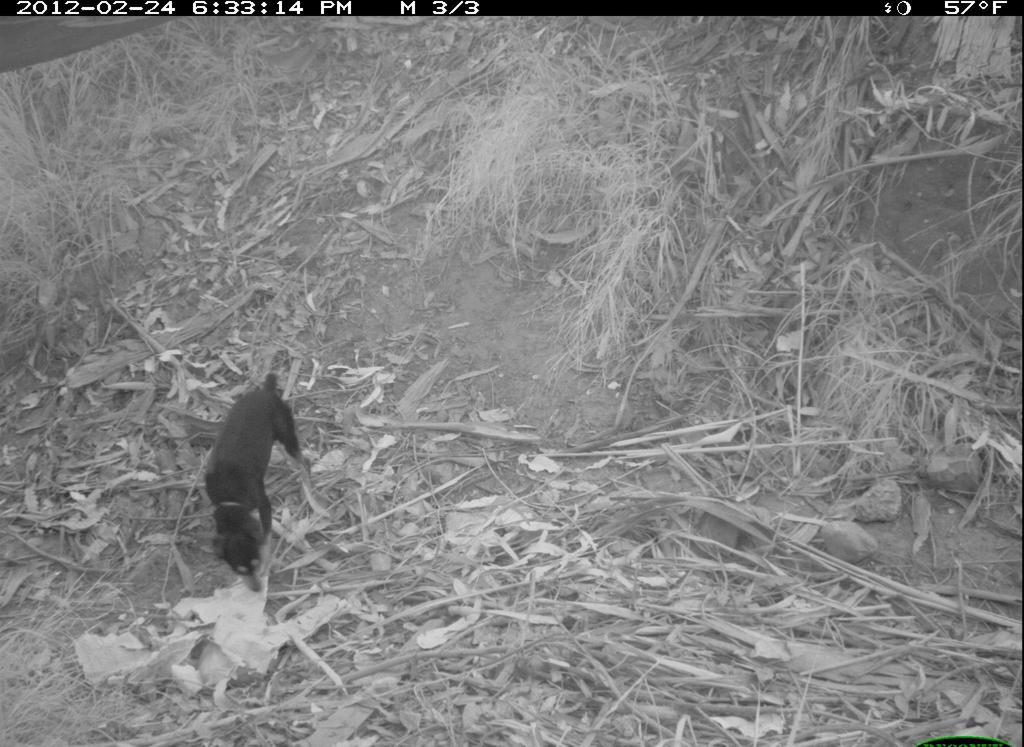dog: (190, 369, 338, 606)
